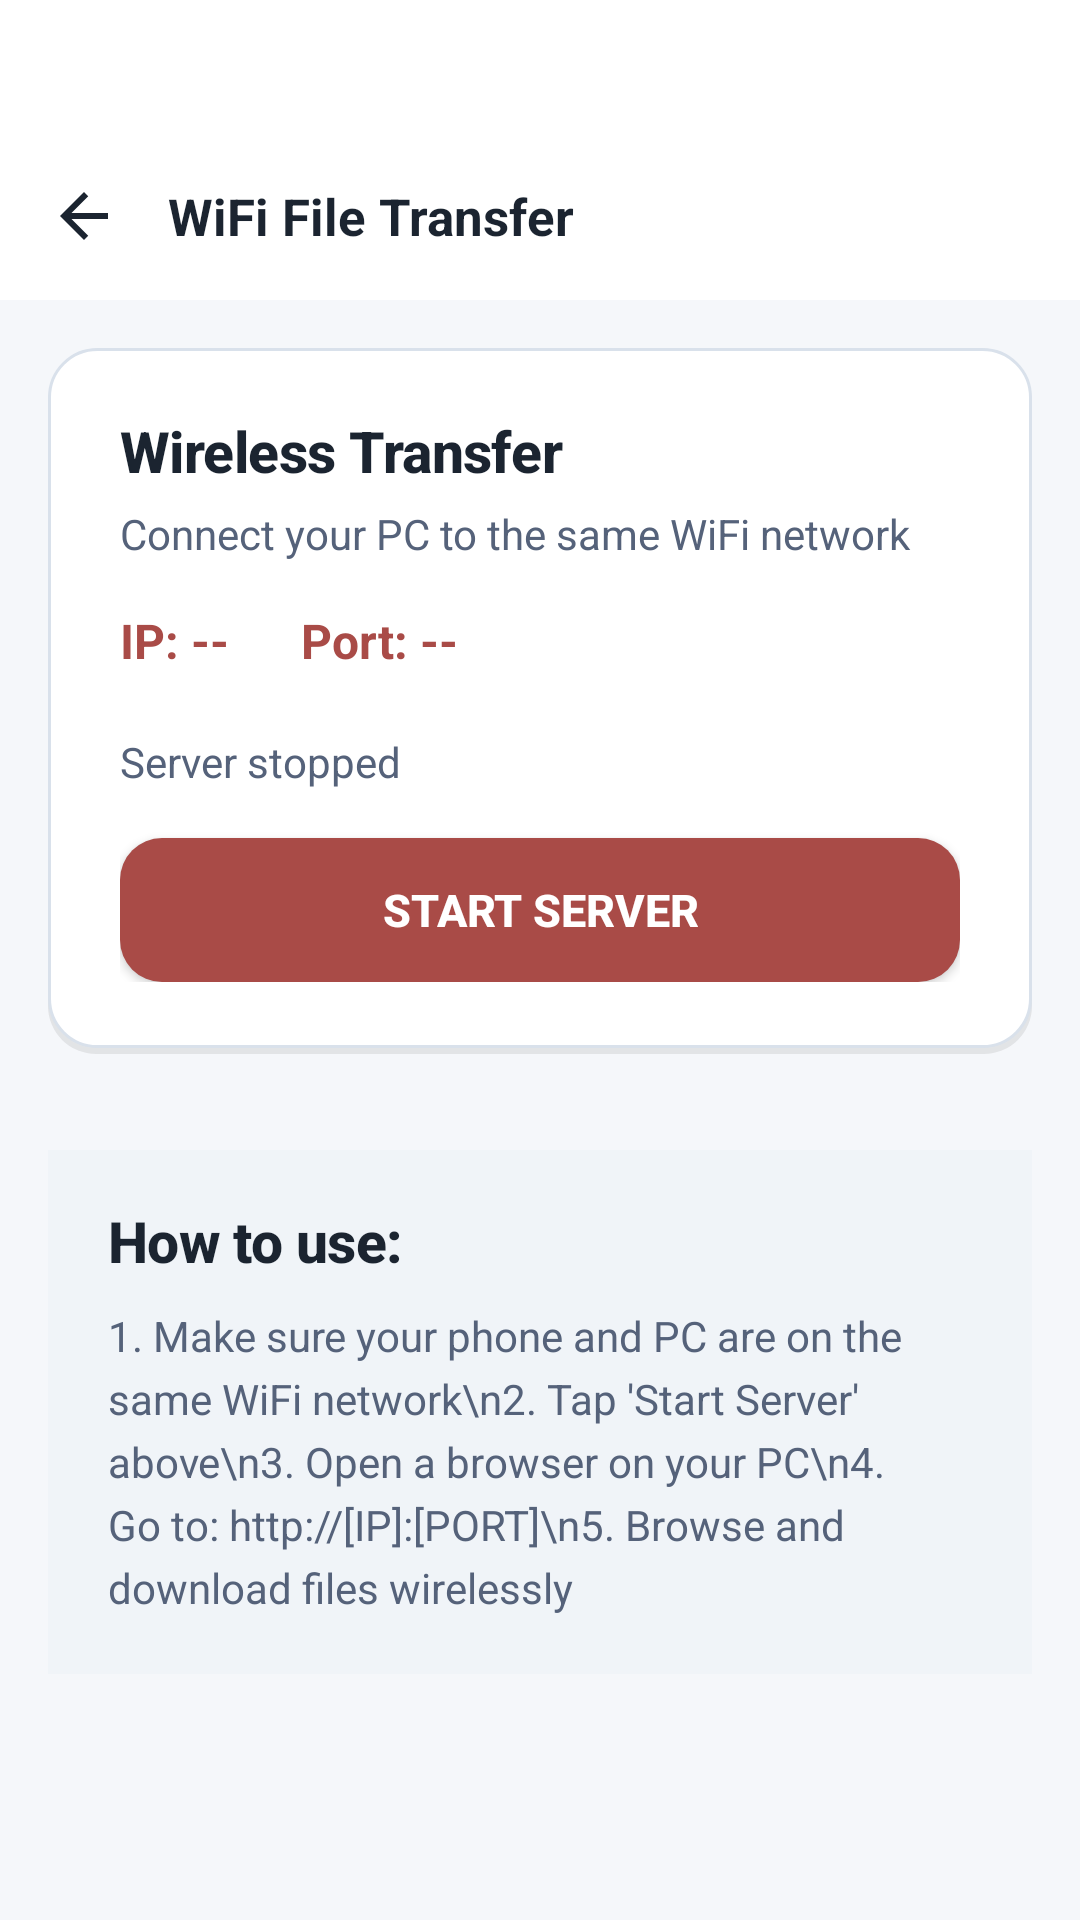

Icon click points for this 1080*1920 phone screenshot, format [x,y]:
Back: [84,216]
